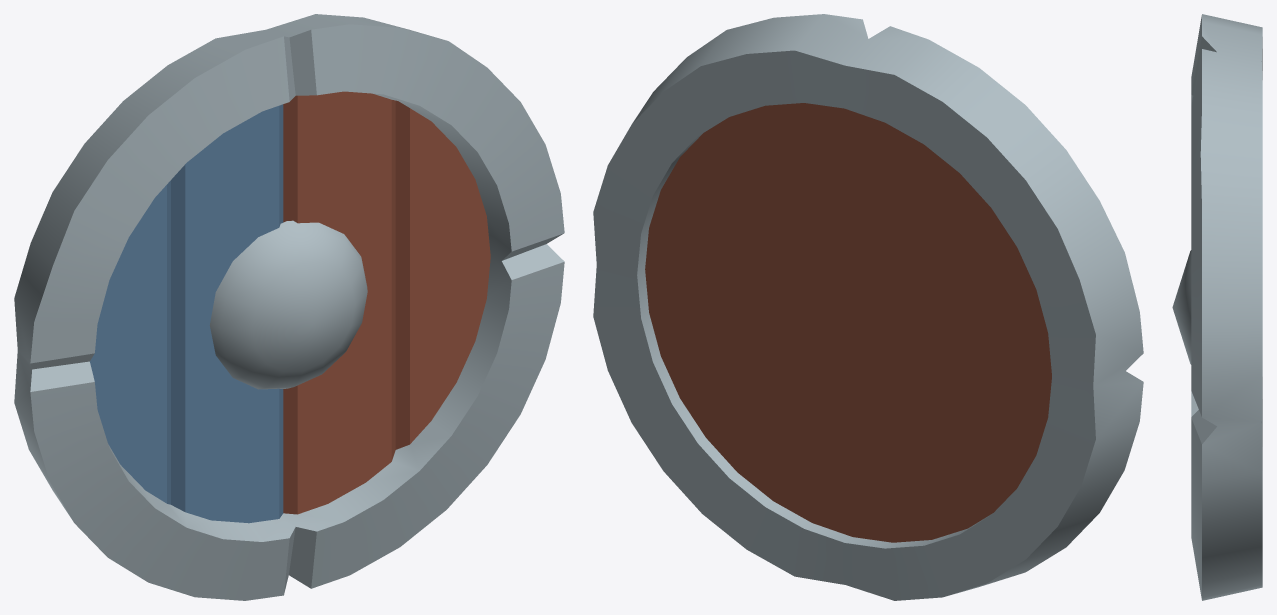
File: vikingShieldB.gltf.glb
3 renders of one model, left to right at view 1: azimuth 30°, elevation 25°; view 2: azimuth 150°, elevation 25°; view 3: azimuth 270°, elevation 25°, orthographic. The views are drawn at different scales.
Parts seen in each view (by area): view 1: vikingShieldB; view 2: vikingShieldB; view 3: vikingShieldB.
Part boxes in pixels (left/top/right/bottom): vikingShieldB: left=14, top=14, right=564, bottom=600; vikingShieldB: left=593, top=14, right=1143, bottom=600; vikingShieldB: left=1172, top=14, right=1262, bottom=600.
Size of the model in its own units: 0.8194 by 0.8194 by 0.1262.
